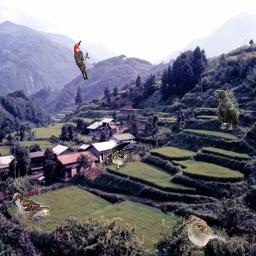Crow: (214, 90, 239, 130)
Sparrow: (186, 215, 226, 253), (11, 192, 50, 223)
Swallow: (107, 142, 133, 171)
Woodpecker: (74, 40, 90, 80)
